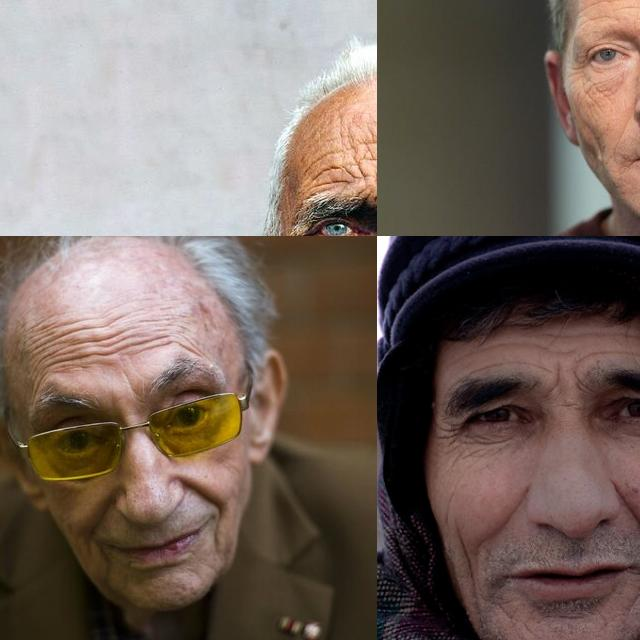chin: (181, 560, 205, 582)
crows_feet: (436, 413, 469, 453), (568, 55, 594, 85)
forehead: (24, 319, 82, 369), (137, 317, 200, 357), (90, 319, 132, 366), (540, 322, 608, 346), (469, 351, 527, 374), (307, 154, 345, 186), (352, 137, 377, 174), (580, 0, 616, 24), (599, 342, 640, 363), (618, 323, 640, 358)
frown_line: (549, 357, 583, 399), (119, 371, 141, 404)
gummy_smile: (492, 492, 528, 542), (181, 477, 239, 505), (619, 494, 640, 542), (88, 499, 110, 533), (612, 118, 636, 144)
masseter: (451, 536, 485, 602), (588, 133, 606, 171), (582, 90, 608, 112)
sad_smile: (90, 542, 116, 584), (206, 519, 224, 551)
